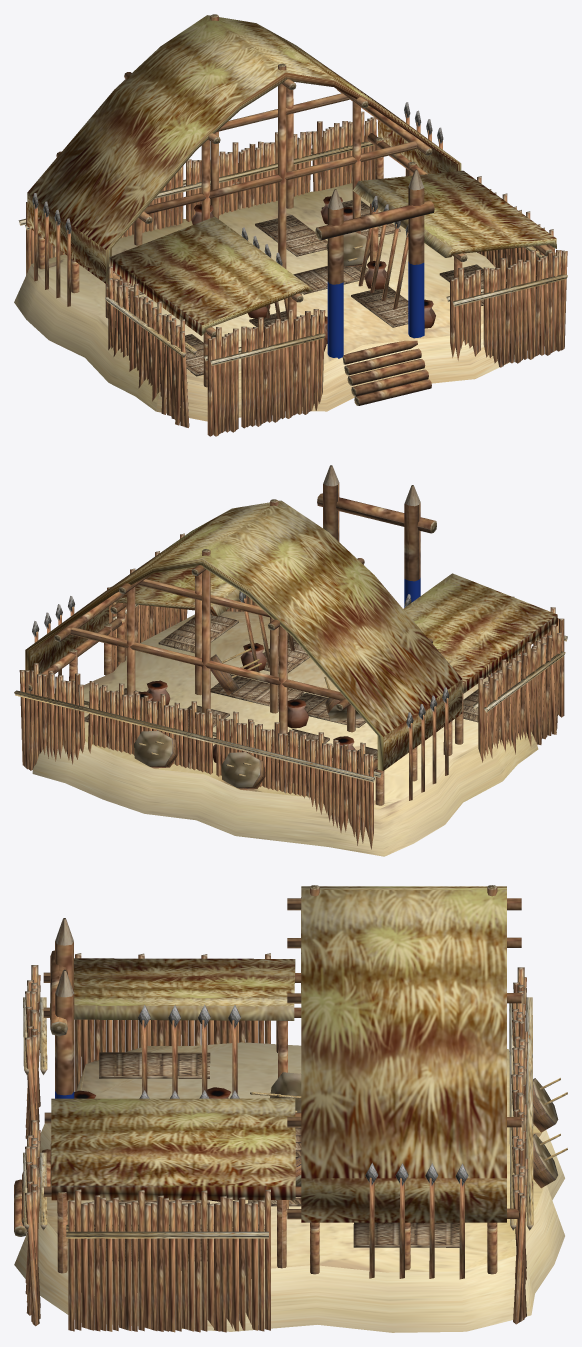
Rendered from barracks.dae.
3 views of the same model, one above another, from view 1: azimuth 30°, elevation 25°; view 2: azimuth 150°, elevation 25°; view 3: azimuth 270°, elevation 25° (orthographic). The views are drawn at different scales.
Visible parts, largest first — view 1: barracks; view 2: barracks; view 3: barracks.
Boxes of the visible parts, left/top/right/bottom form: barracks: left=14, top=14, right=567, bottom=436; barracks: left=14, top=465, right=567, bottom=856; barracks: left=14, top=885, right=567, bottom=1332.
Size of the model in its own units: 22.83 by 21.35 by 13.91.
